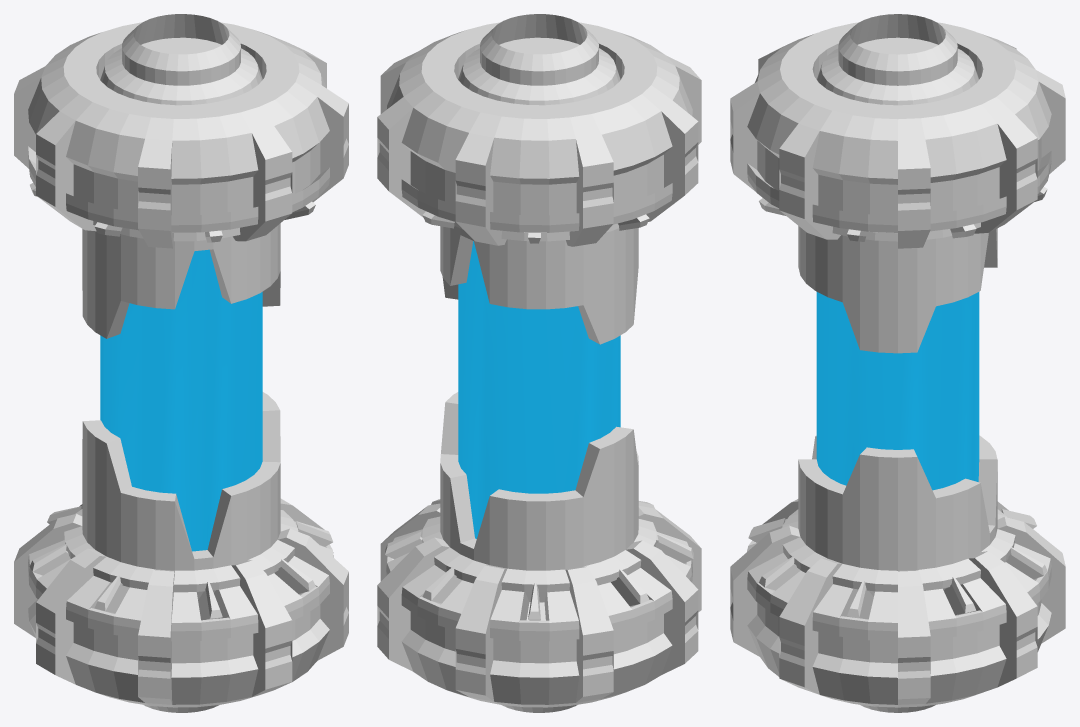
The model's file is testTubeMod.fbx.
The picture shows the model from 3 angles, left to right: view 1: azimuth 30°, elevation 25°; view 2: azimuth 150°, elevation 25°; view 3: azimuth 270°, elevation 25°; orthographic projection.
Visible parts, largest first — view 1: Cylinder.002, Cylinder.001; view 2: Cylinder.002, Cylinder.001; view 3: Cylinder.002, Cylinder.001.
Boxes of the visible parts, x1,y1,x2,y2 form: Cylinder.002: (14, 249, 348, 712); Cylinder.001: (14, 14, 348, 338); Cylinder.002: (377, 241, 701, 712); Cylinder.001: (377, 14, 701, 344); Cylinder.002: (730, 292, 1065, 712); Cylinder.001: (730, 14, 1065, 353).
Bounding box in the file's own units: 527 × 1141 × 527.
